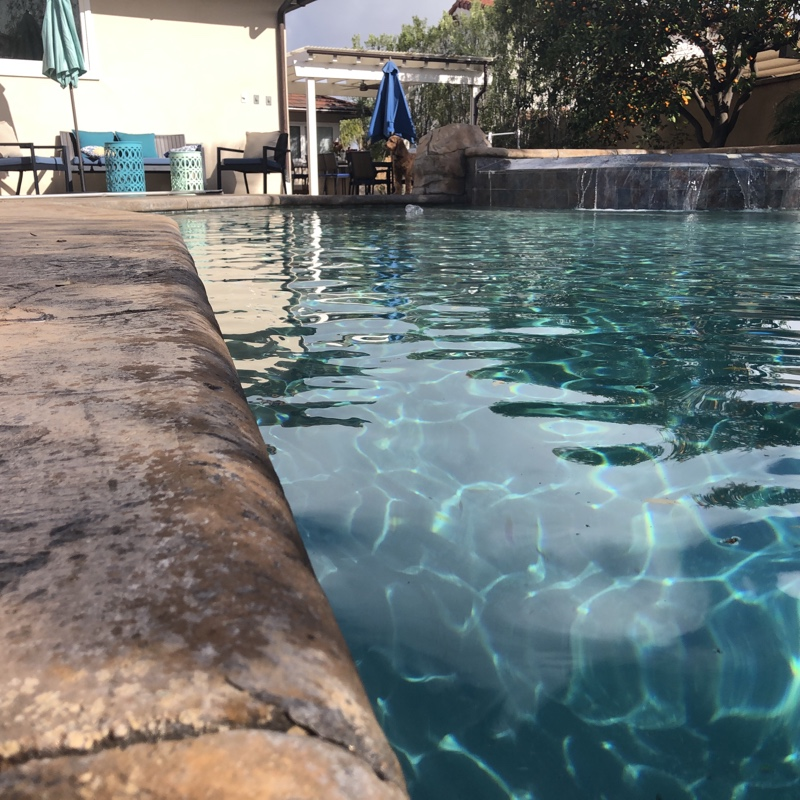Plastic Bottle: (402, 202, 425, 220)
